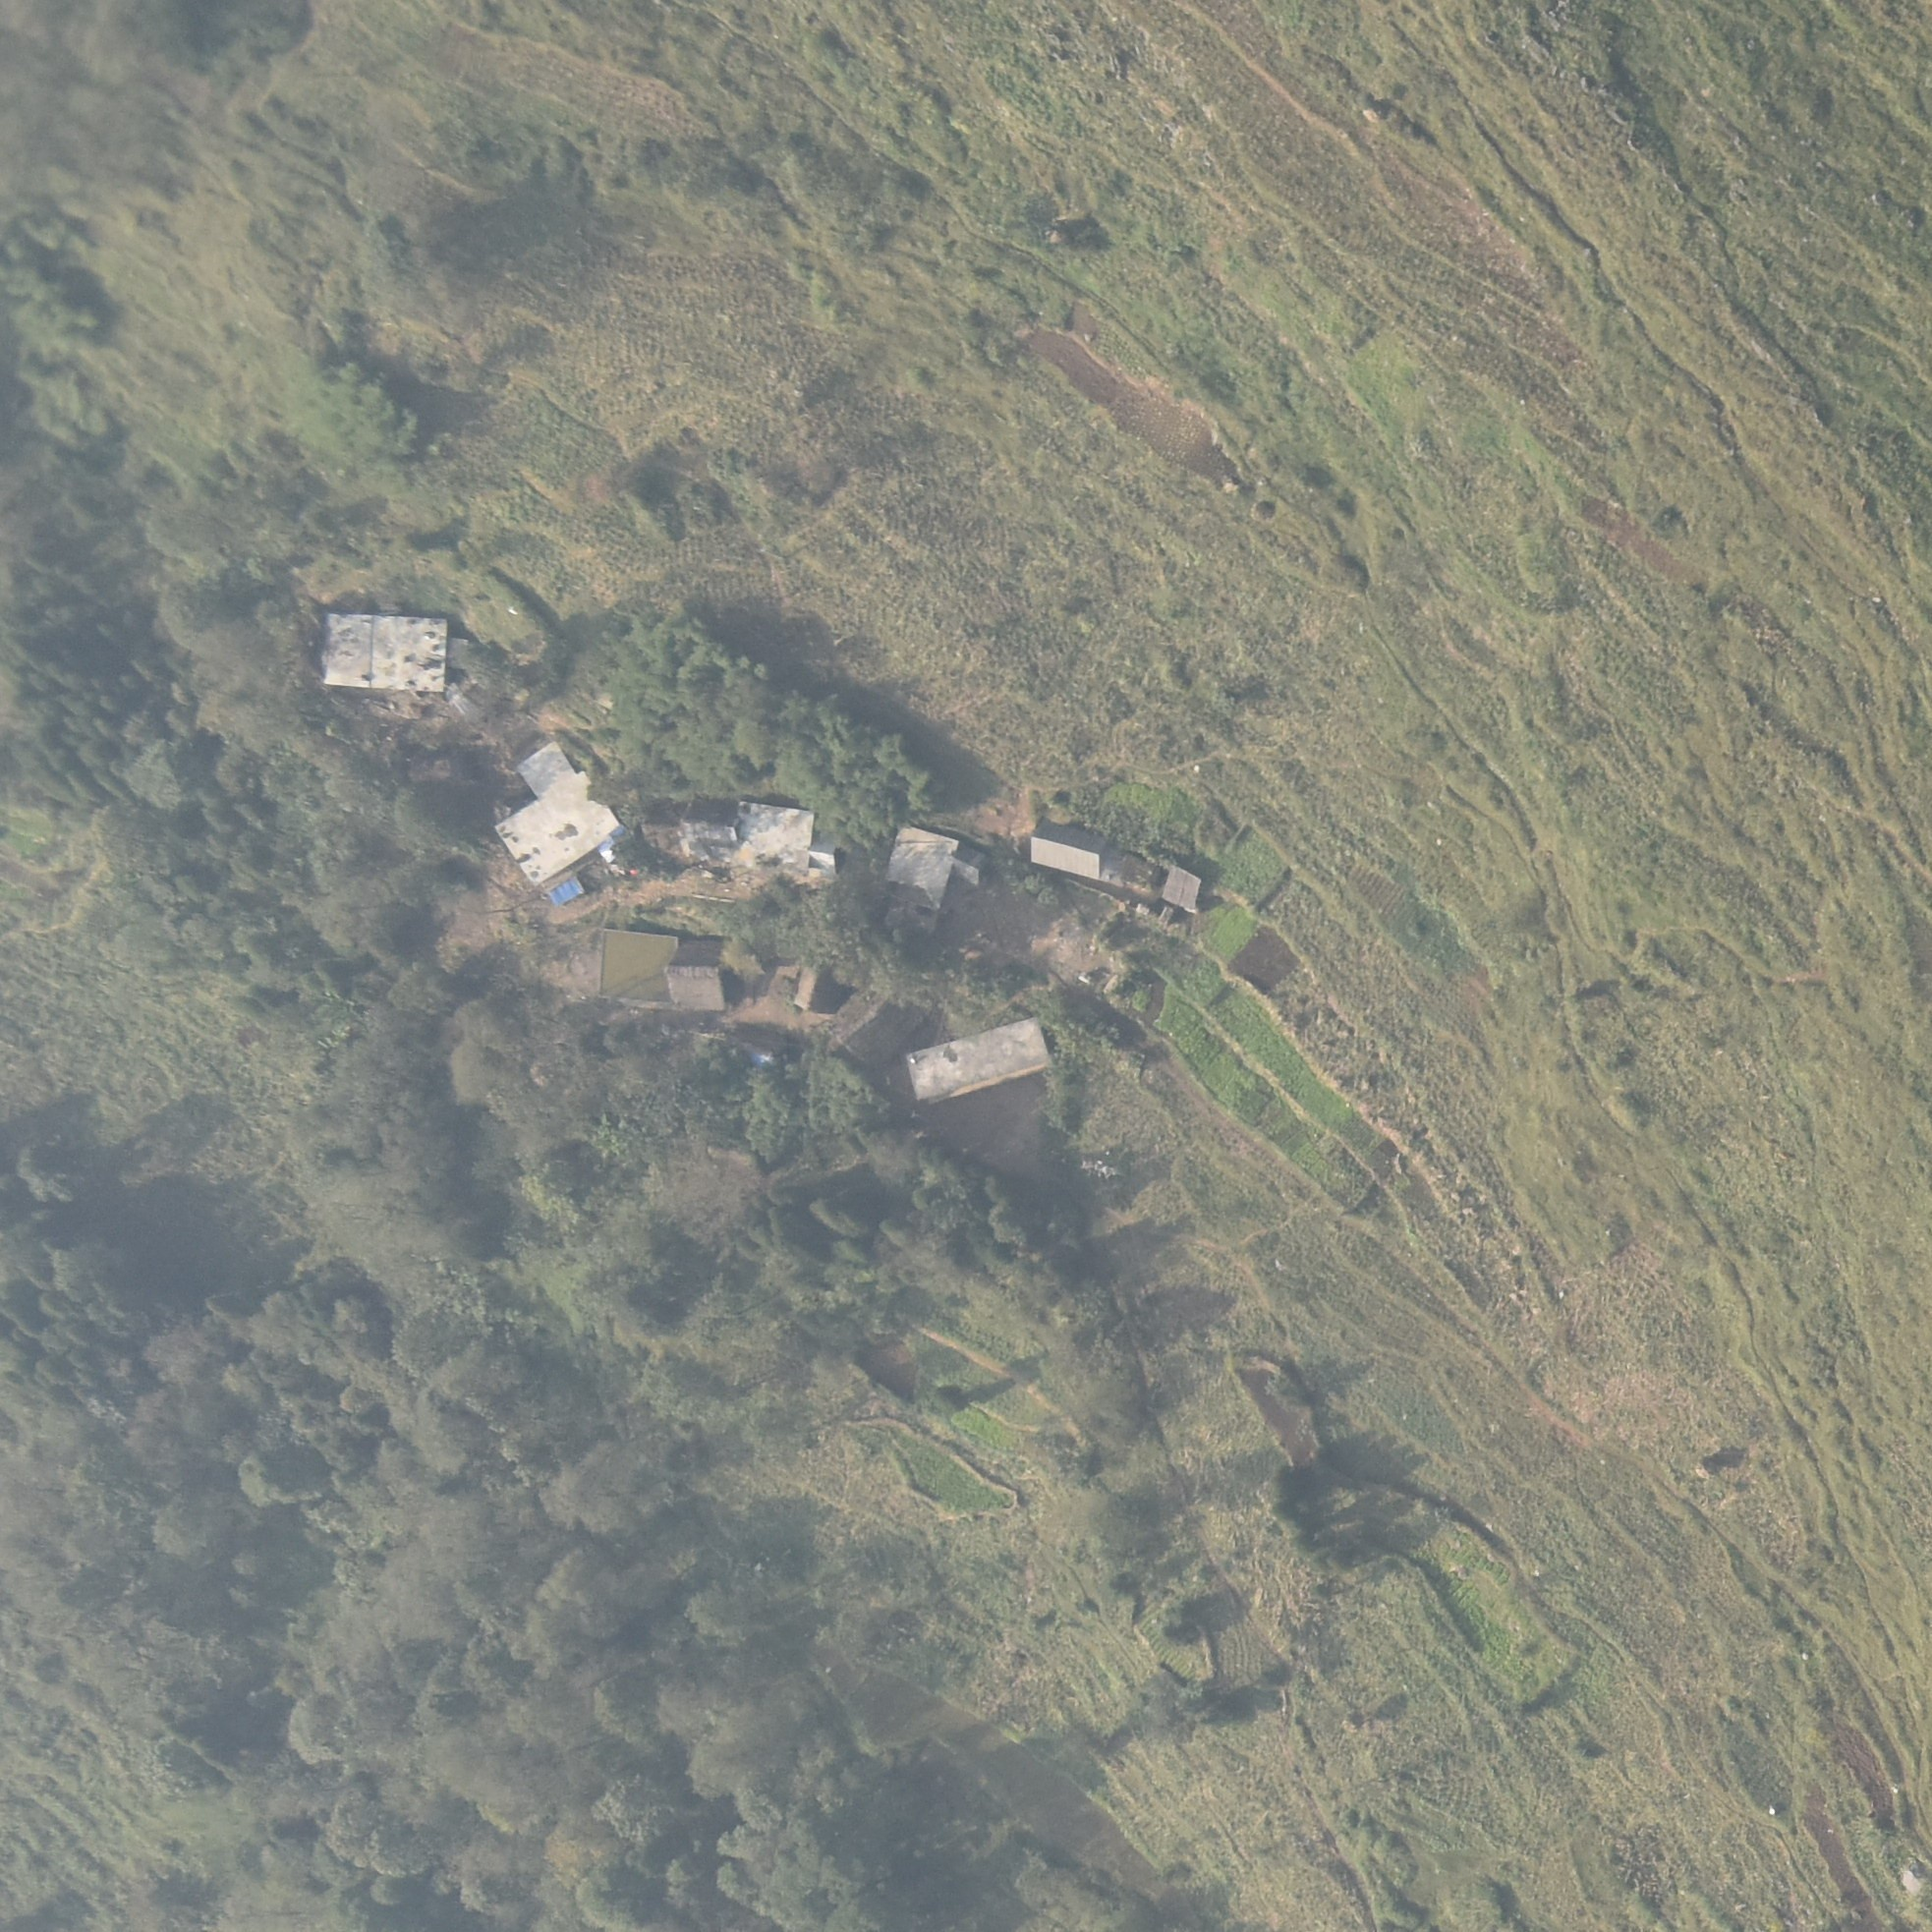building: (492, 738, 630, 888), (902, 1017, 1060, 1113), (826, 973, 950, 1067), (591, 924, 686, 1012), (883, 819, 959, 927), (732, 794, 817, 881), (1012, 814, 1109, 885), (373, 609, 449, 697), (662, 936, 740, 1016), (313, 600, 375, 697), (1157, 849, 1214, 915), (793, 945, 828, 1016), (947, 840, 987, 893)
prefabricated-house: (538, 869, 587, 909)
